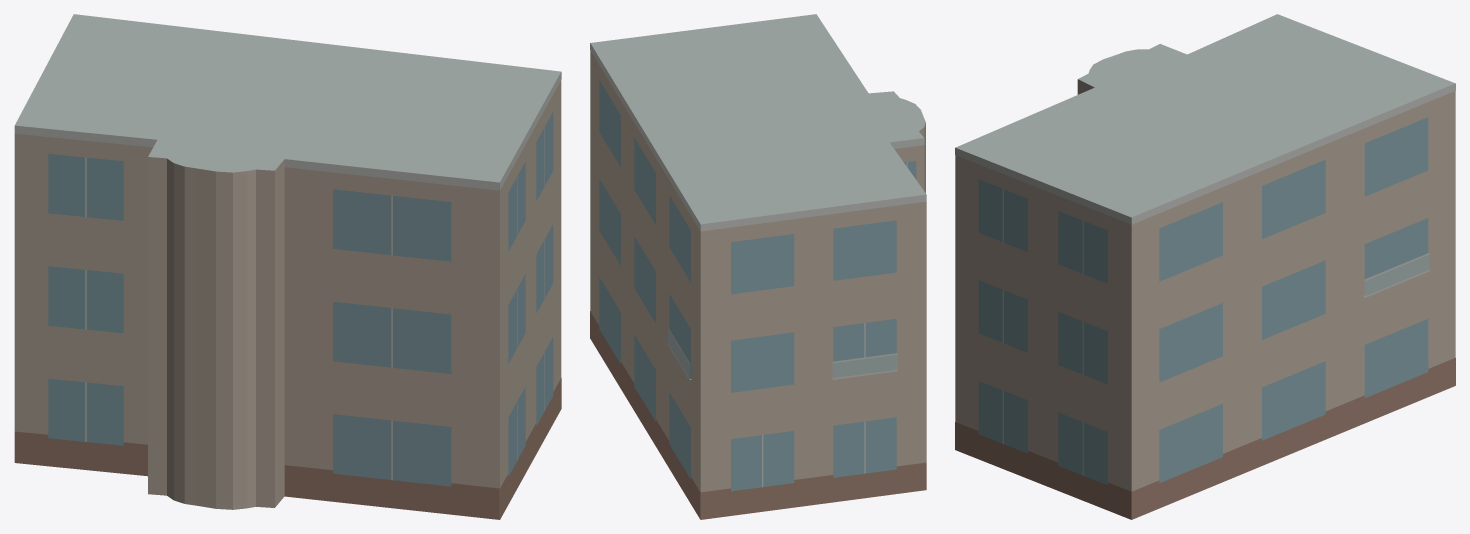
File: survey-upis-32784837.glb
3 renders of one model, left to right at view 1: azimuth 30°, elevation 25°; view 2: azimuth 150°, elevation 25°; view 3: azimuth 270°, elevation 25°, orthographic. The views are drawn at different scales.
Parts seen in each view (by area): view 1: survey-upis-32784837.tmp; view 2: survey-upis-32784837.tmp; view 3: survey-upis-32784837.tmp.
Part boxes in pixels (x1=…): survey-upis-32784837.tmp: x1=14, y1=14, x2=561, y2=519; survey-upis-32784837.tmp: x1=590, y1=14, x2=926, y2=519; survey-upis-32784837.tmp: x1=955, y1=14, x2=1455, y2=519.
Bounding box in the file's own units: 14.73 × 10.2 × 15.31.
